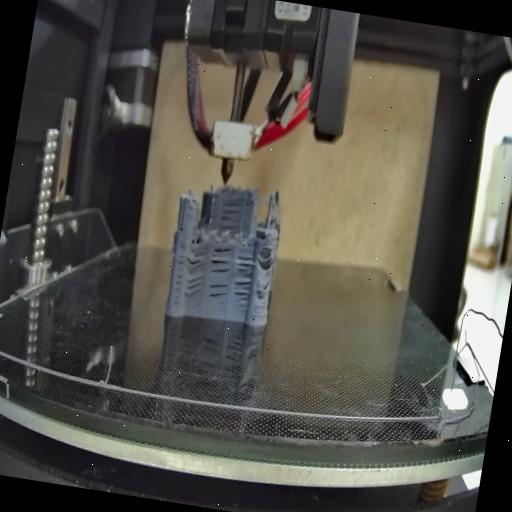cracks: (229, 250, 256, 308), (218, 192, 244, 234), (170, 252, 188, 308), (208, 244, 234, 274), (206, 278, 228, 305), (187, 245, 208, 272), (184, 275, 204, 296), (258, 252, 278, 270), (178, 220, 190, 238), (260, 277, 270, 294)
